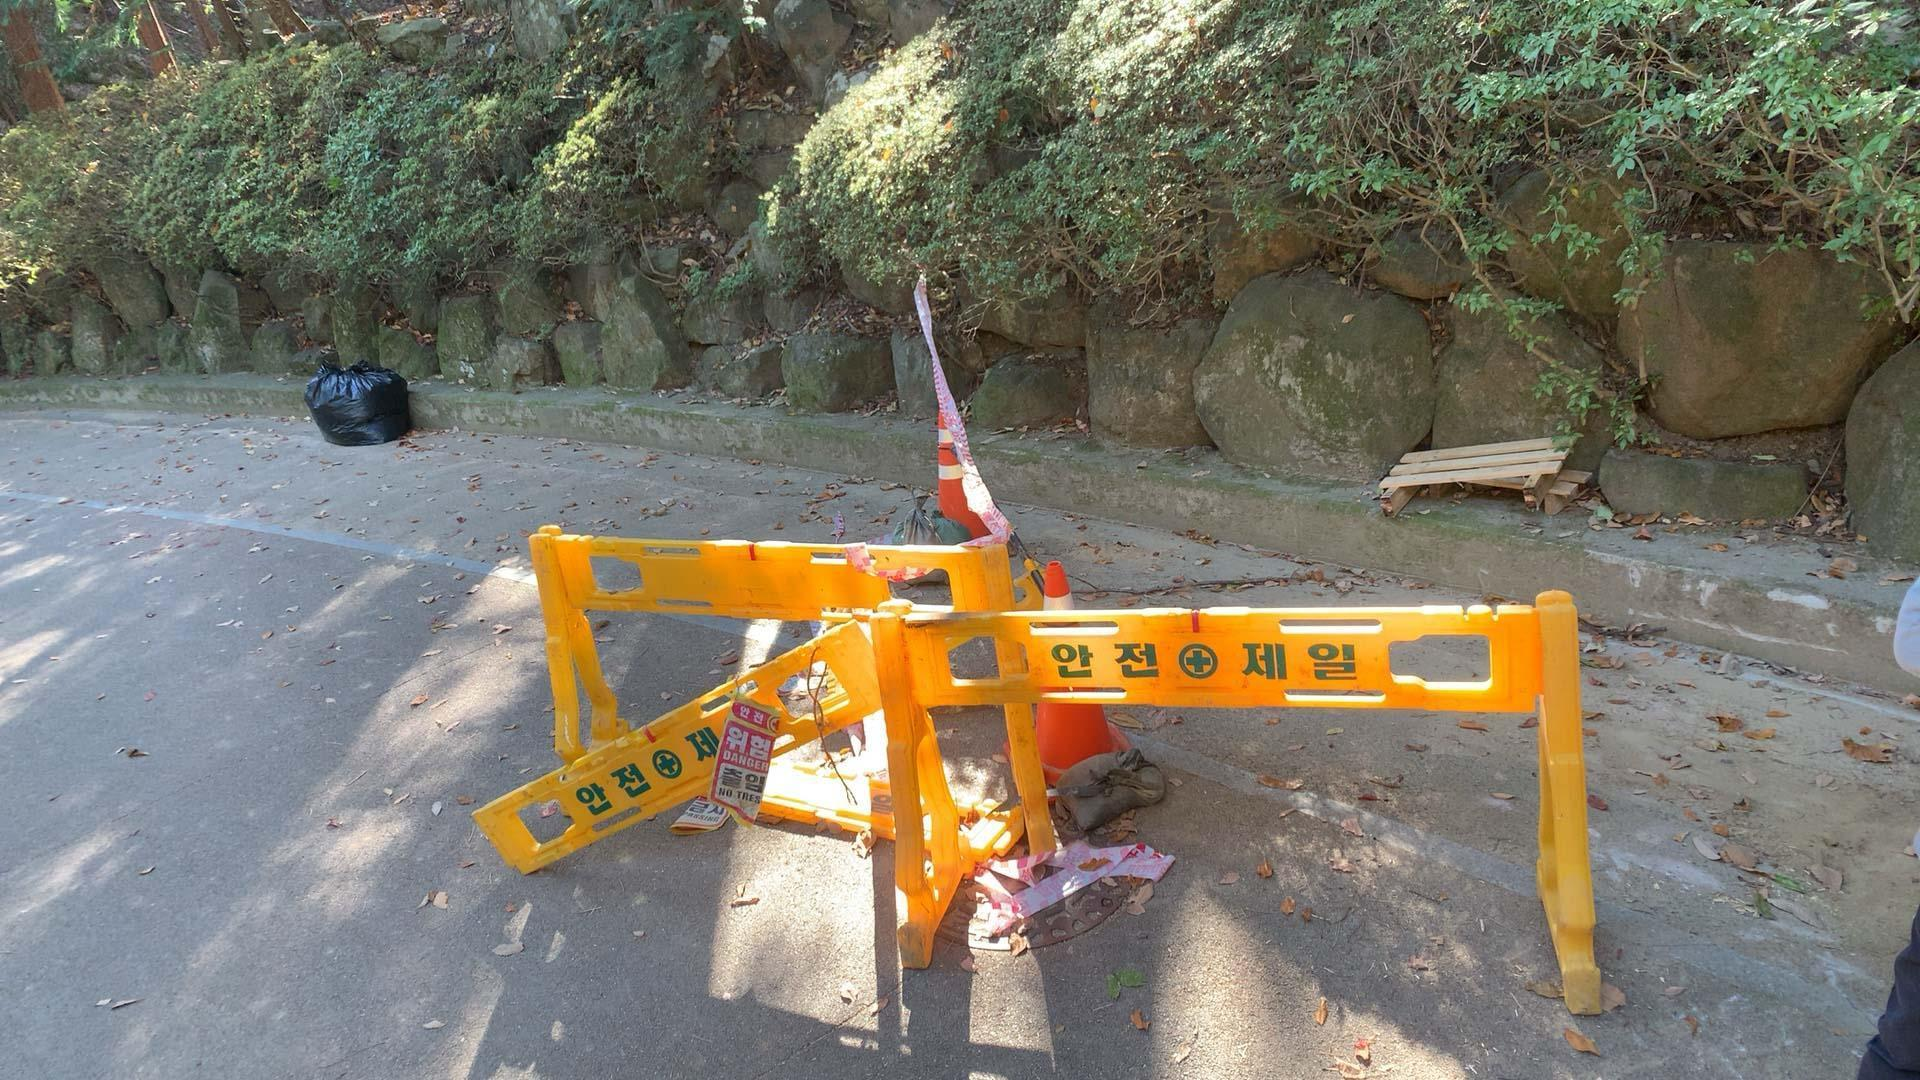white_bag: (299, 356, 416, 450)
